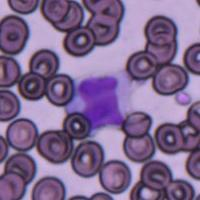M: (66, 70, 133, 130)
